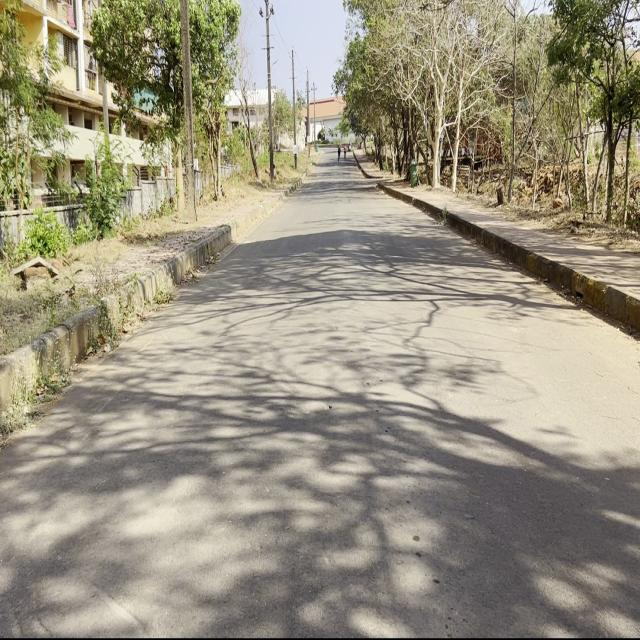Road: (3, 154, 639, 632)
